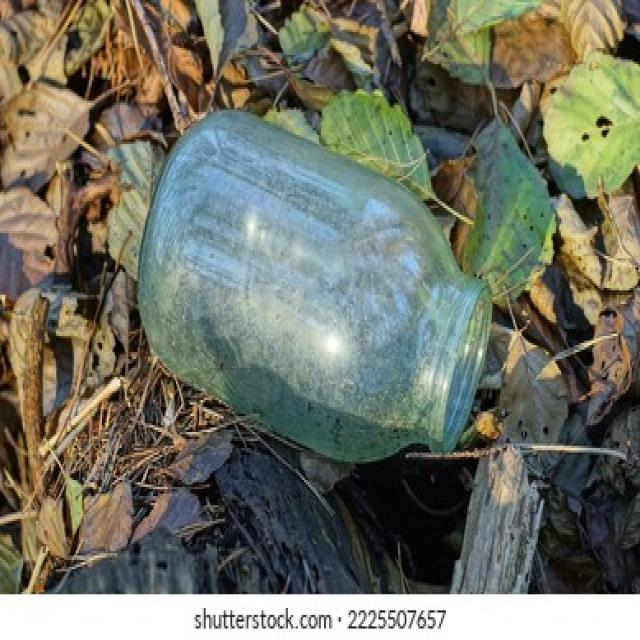glass: (155, 107, 467, 455)
